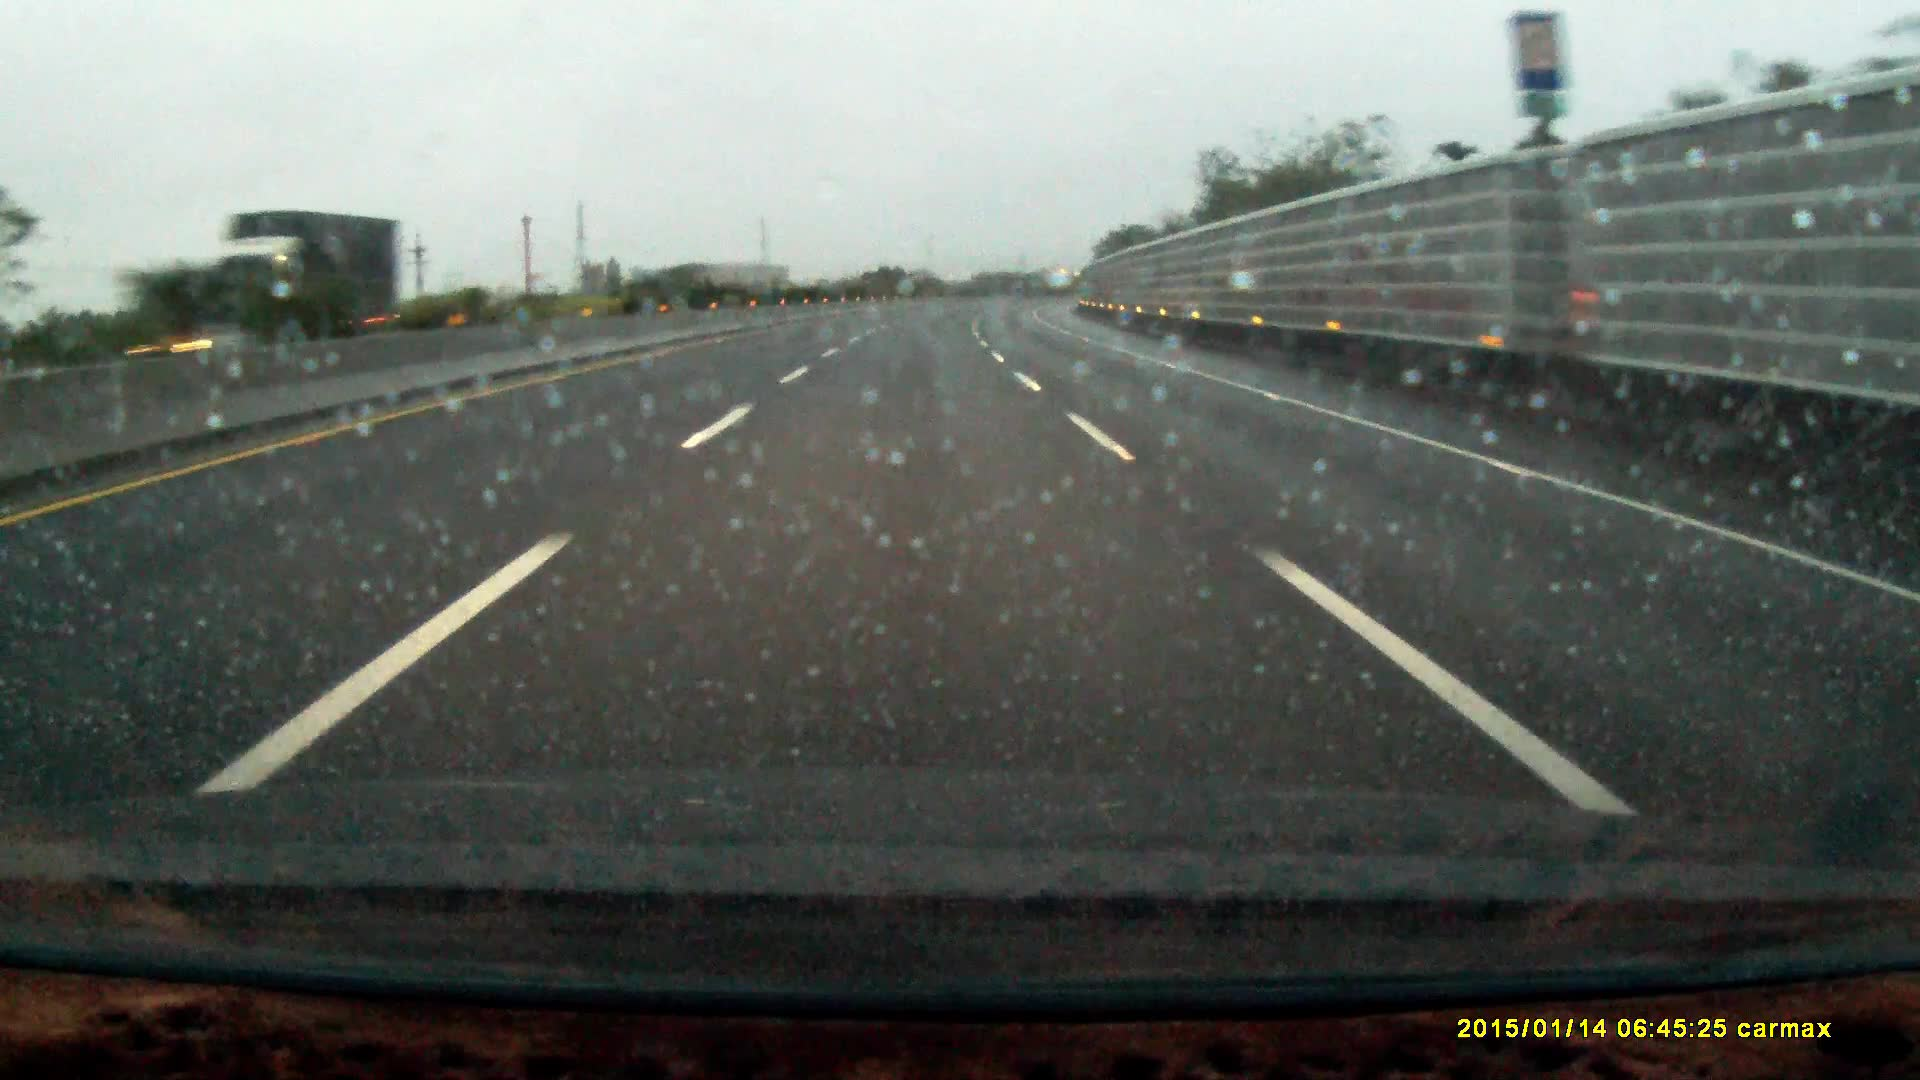vehicle: (206, 208, 404, 343)
